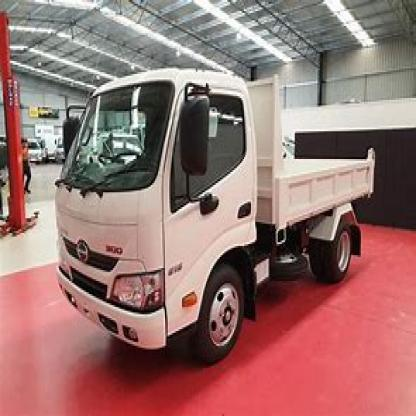dump_truck: (43, 48, 394, 372)
